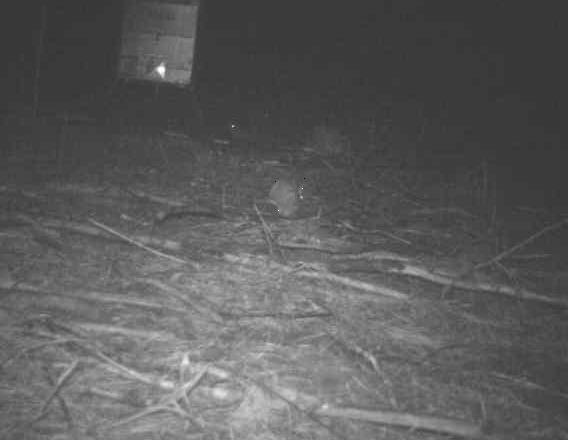Rabbit: (267, 176, 308, 220)
